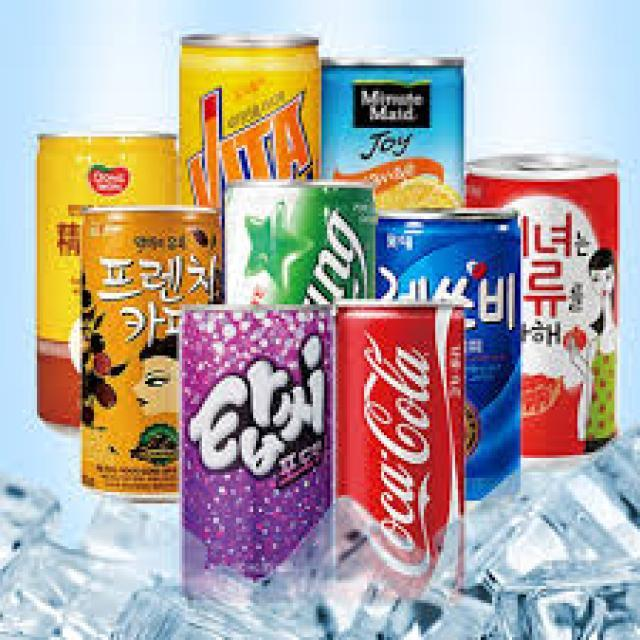coca-cola: (337, 300, 467, 592)
